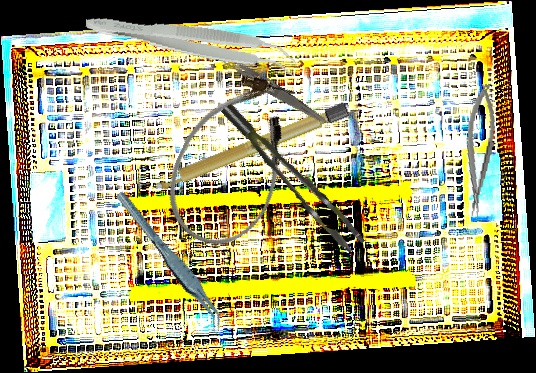Cannula: (149, 58, 317, 262)
Dressing Forceps: (211, 47, 331, 127)
Needle Holder: (457, 82, 501, 218)
Scalpel Handle: (149, 101, 351, 195)
Tissue Forceps: (220, 87, 366, 265), (114, 180, 228, 340), (82, 8, 300, 79)
